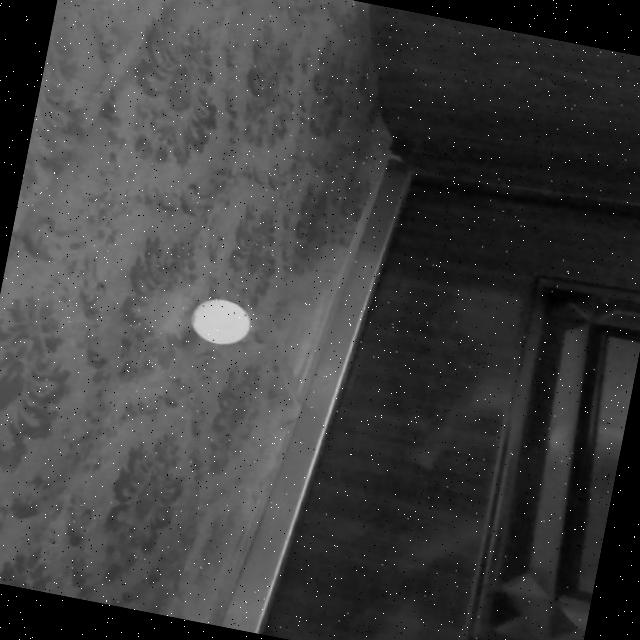ping-pong-ball: (189, 294, 252, 348)
